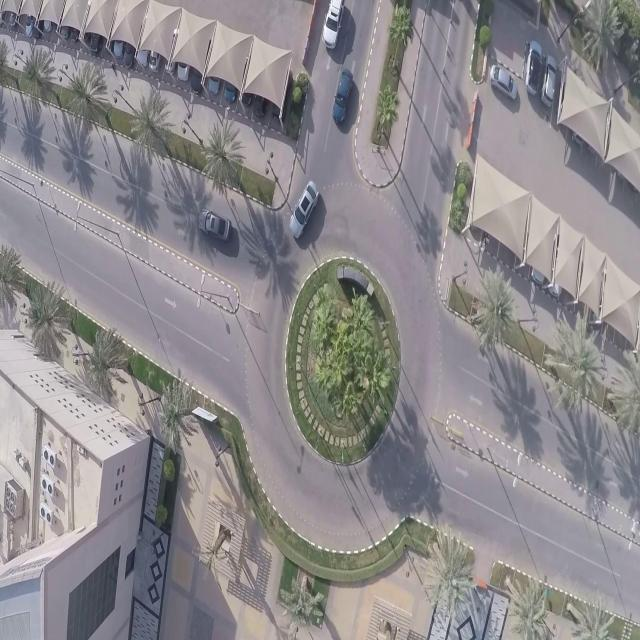car: (289, 179, 320, 240), (197, 204, 231, 244), (333, 64, 354, 125), (321, 0, 345, 52), (489, 63, 518, 99), (526, 39, 542, 99), (542, 53, 558, 109), (548, 246, 564, 300), (531, 236, 546, 288), (177, 42, 191, 82), (208, 57, 222, 95), (223, 65, 237, 102), (122, 31, 134, 71), (91, 12, 102, 52), (149, 37, 161, 73), (136, 34, 149, 66), (113, 26, 124, 63), (69, 4, 79, 42), (24, 1, 34, 36), (42, 0, 52, 33), (243, 70, 252, 106), (60, 0, 68, 39), (7, 1, 18, 29)
